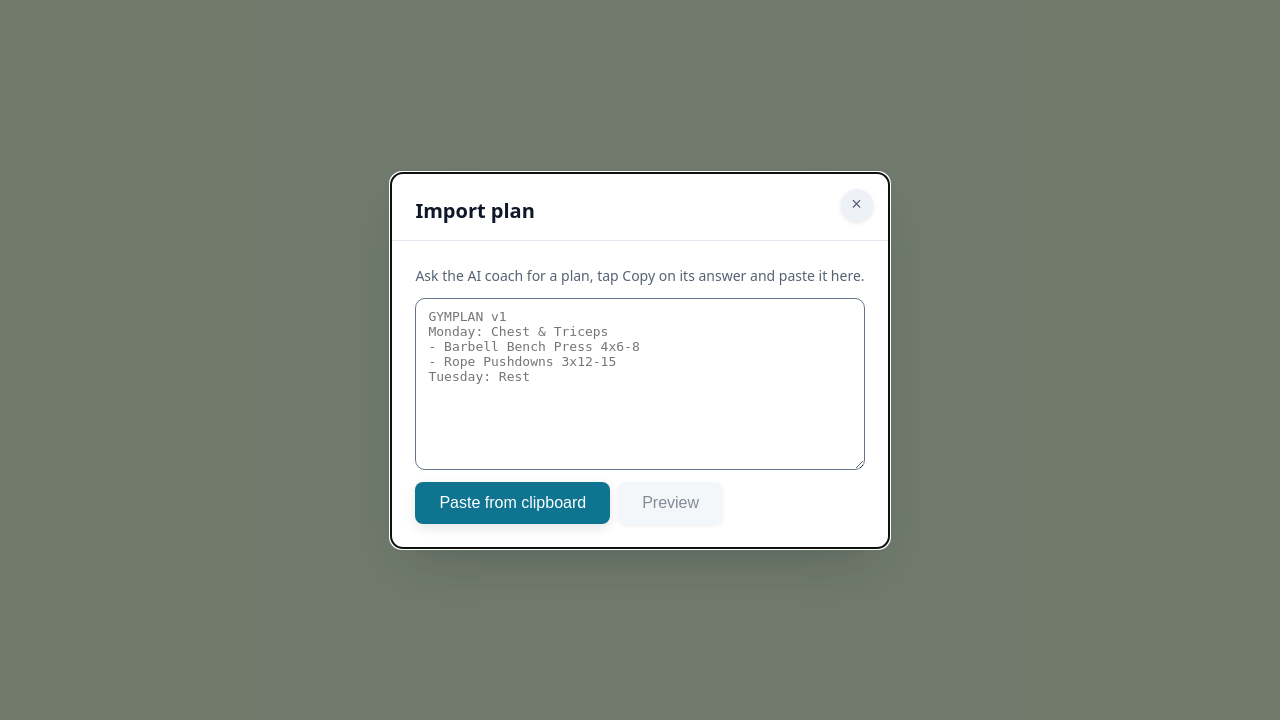
ImportPlanModal › previews each line with a match badge
The image size is (1280, 720).
Replace the text in the text box named "Paste the plan here" with "GYMPLAN v1 Monday: Chest & Triceps - Barbell Bench Press 4x6-8 - Barbel Bench Pres 3x8 - Farmer's Wa 3x40 - custom: Sled Push with rope 4x20 Tuesday: Rest Wednesday: Legs - Barbell Squats 4x6-8 Thursd" at (640, 384), box [415,298,864,470]
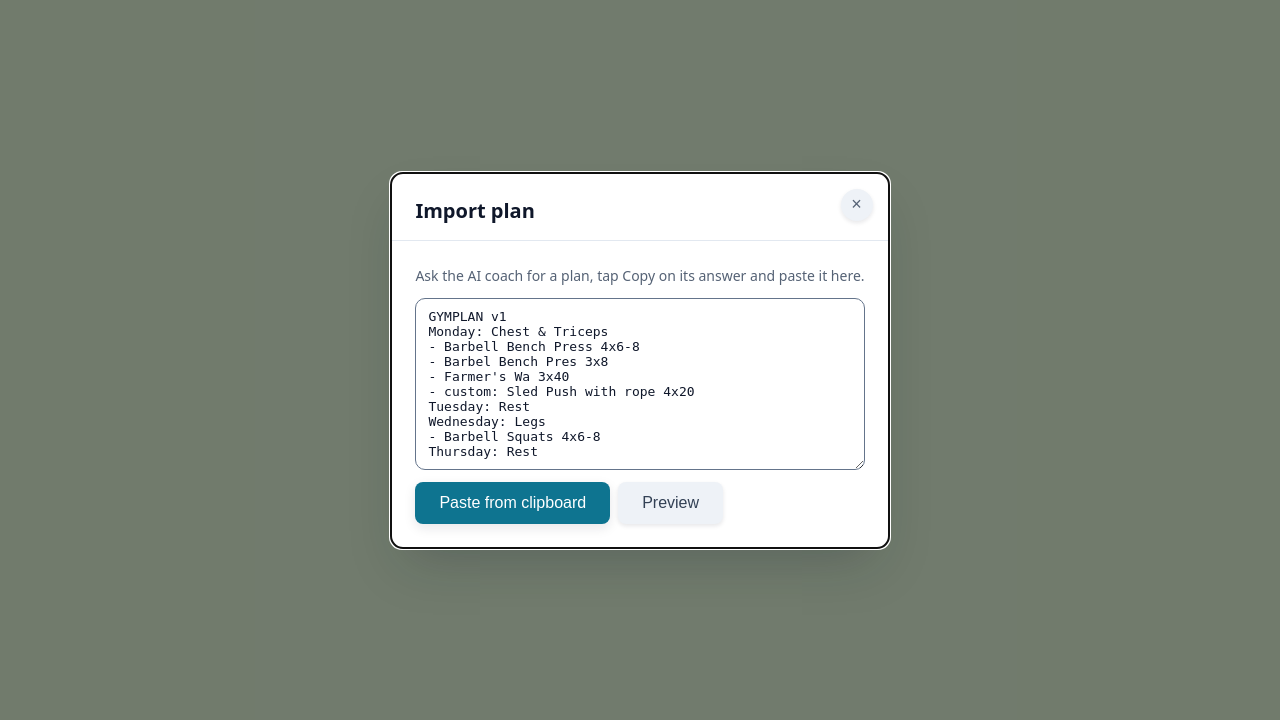
Click the button "Preview" at (671, 502), box [618,482,723,524]
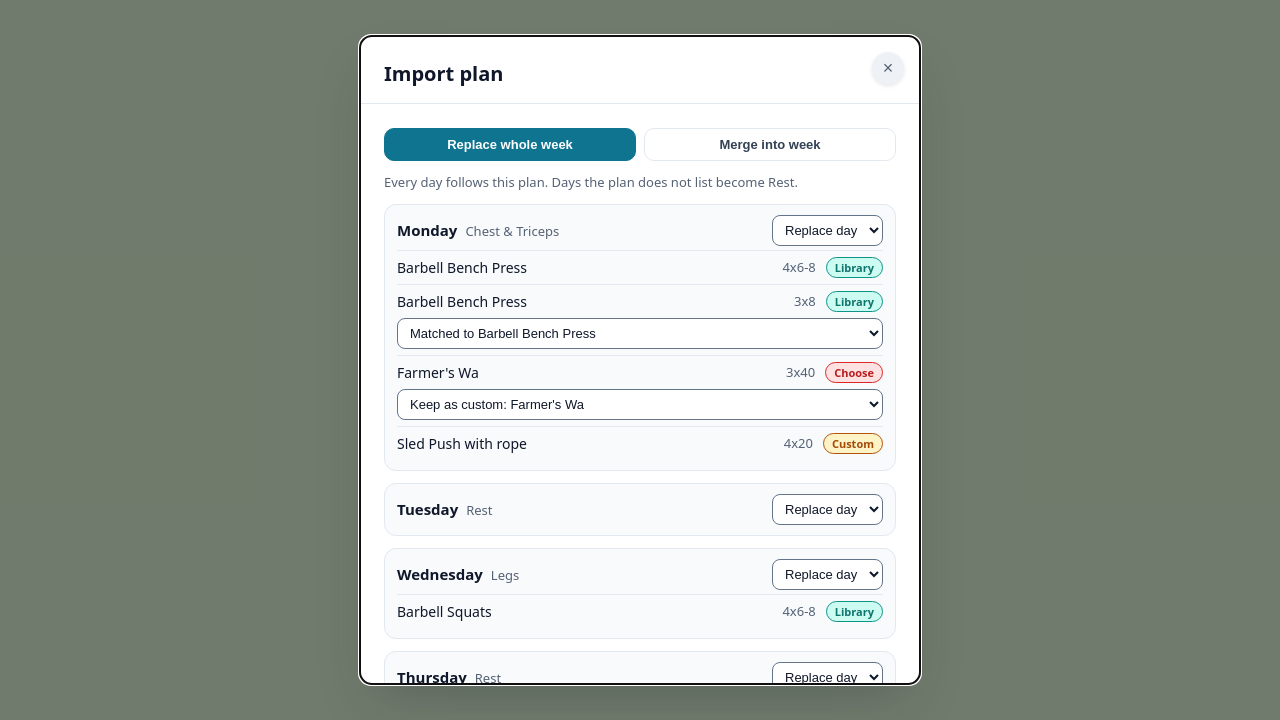
Now the text "Library" is shown 3 times, box [826,257,883,278]; [826,291,883,312]; [826,601,883,622]
Now the text "Choose" is shown, box [825,362,883,383]
Now the text "Custom" is shown, box [823,433,883,454]
